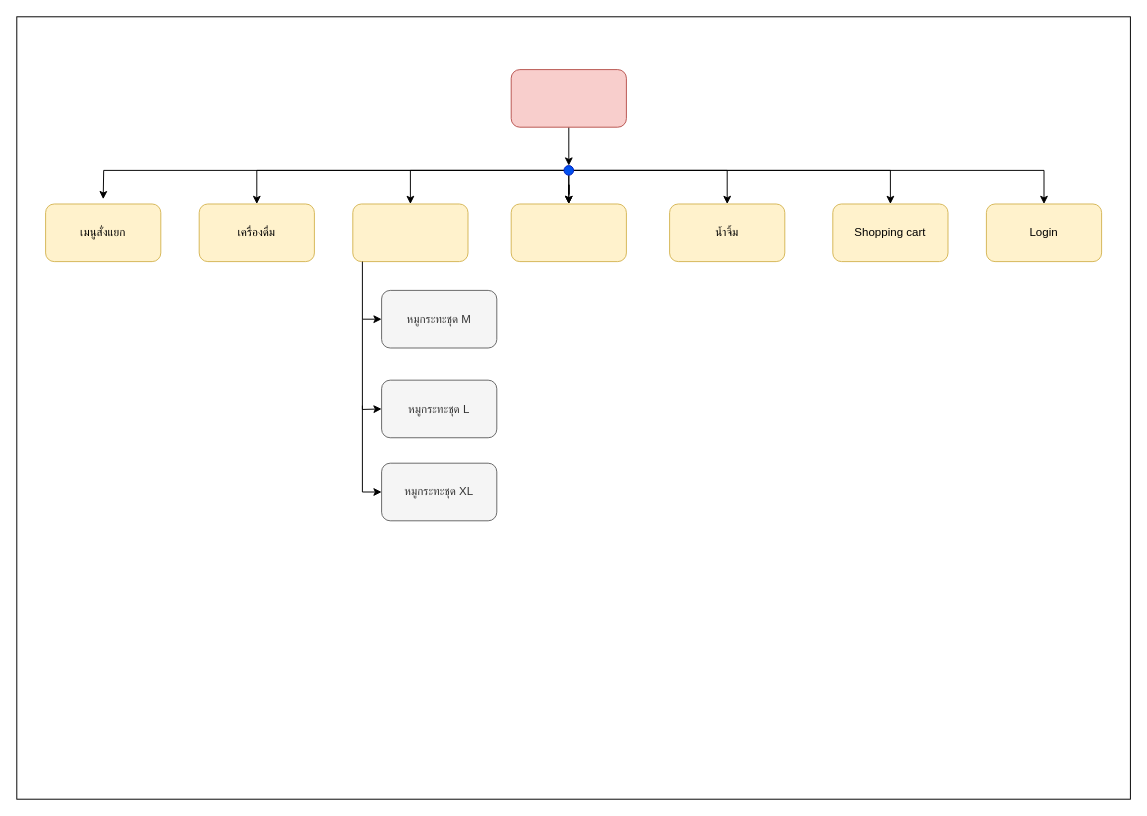
This 1147x816 diagram has some shape labels left out. Here are the shapes that lost their labels. From the top down, the box of each, then its label:
(510, 69, 626, 127): Homepage
(352, 203, 468, 262): ชุดหมูกระทะ
(510, 203, 626, 262): ของว่างทานเล่น
